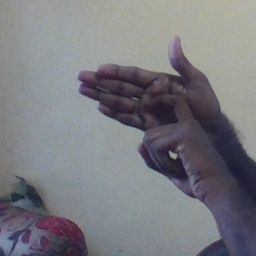R: (73, 29, 219, 192)
